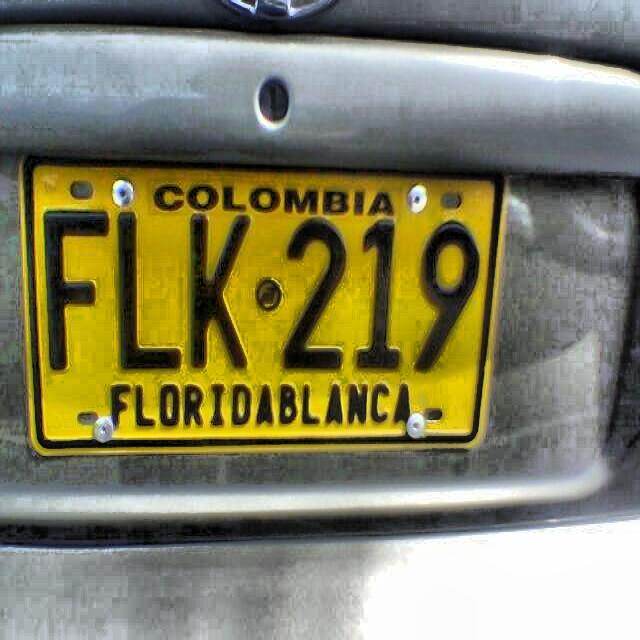plate: (19, 152, 509, 456)
